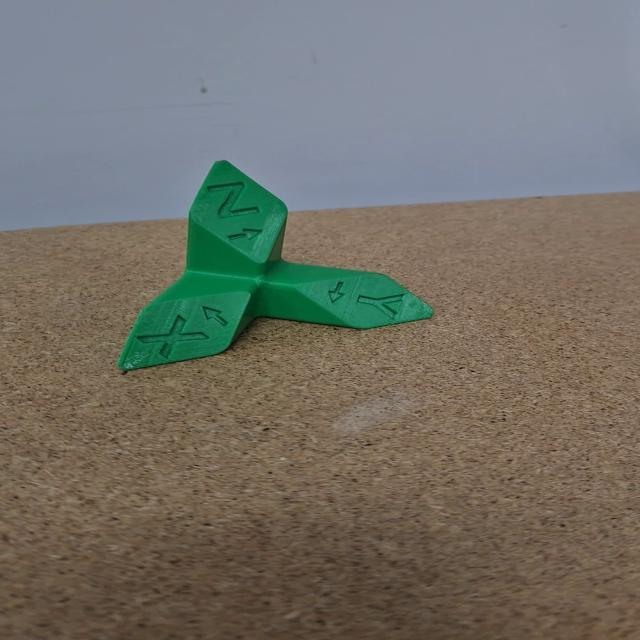eje: (110, 154, 442, 376)
